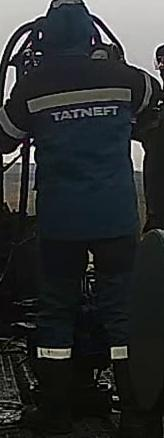vest: (7, 58, 154, 245)
